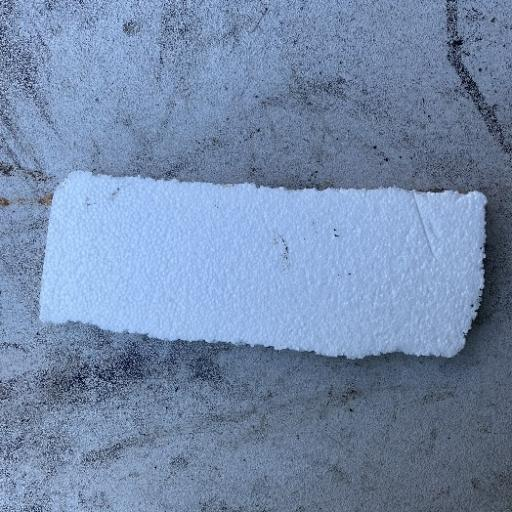Plastic: (35, 167, 490, 363)
